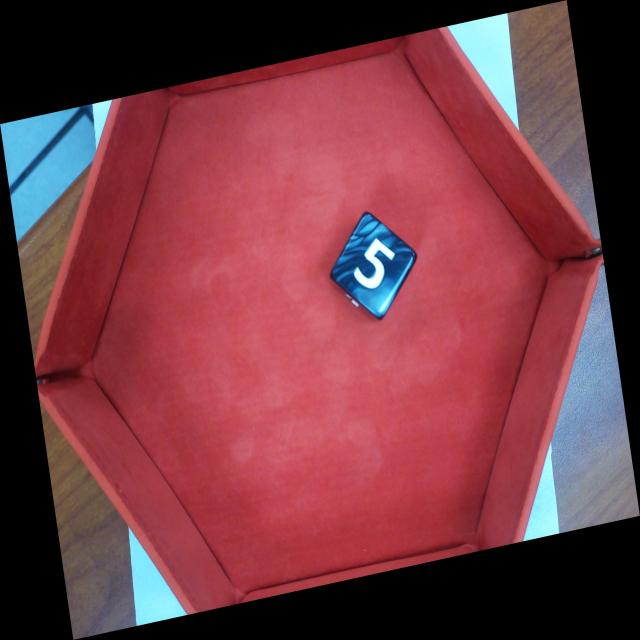dice: (329, 211, 418, 321)
